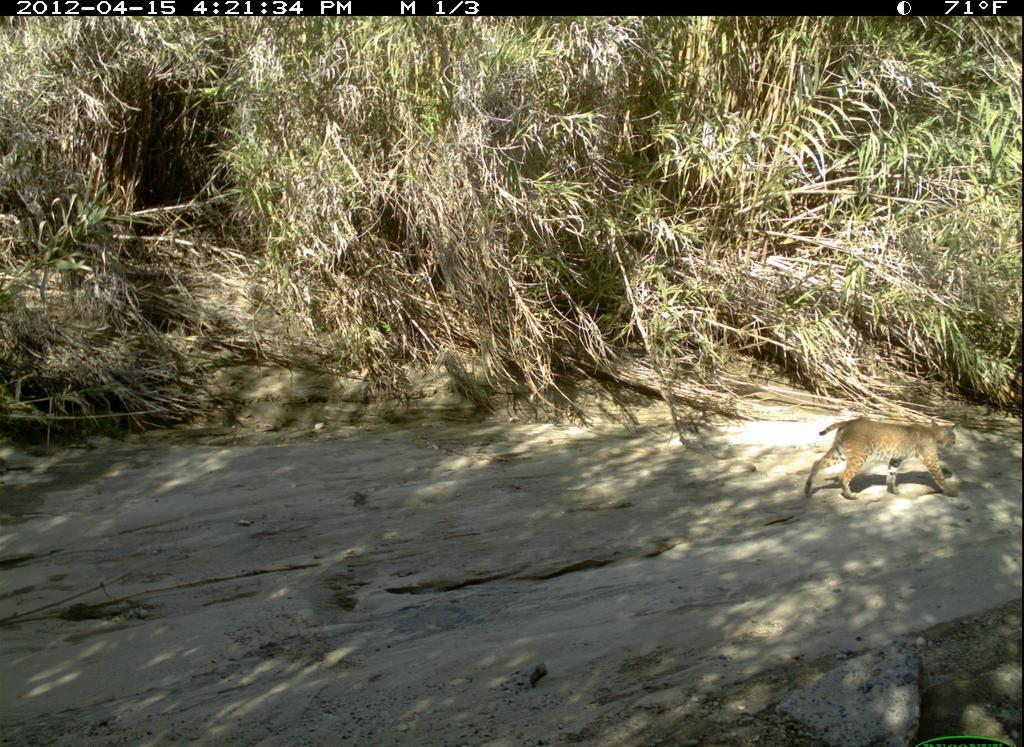bobcat: (798, 395, 978, 506)
